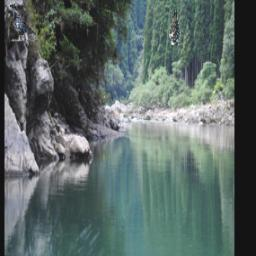Crow: (10, 2, 37, 41)
Woodpecker: (168, 8, 189, 45)
